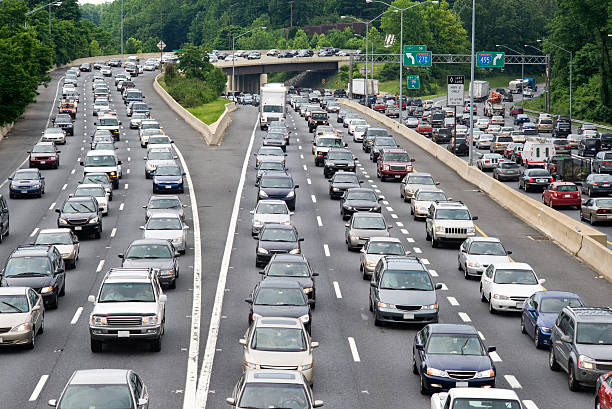car: (90, 269, 161, 353), (549, 305, 612, 388), (414, 326, 492, 392), (373, 257, 438, 328), (241, 315, 308, 379), (5, 247, 60, 303), (477, 260, 536, 311), (232, 371, 308, 409), (522, 288, 571, 344), (253, 281, 308, 330), (1, 282, 40, 349), (124, 241, 173, 284), (460, 235, 510, 275), (427, 202, 469, 247), (143, 213, 185, 257), (57, 199, 98, 241), (363, 237, 405, 275), (33, 228, 76, 265), (257, 225, 294, 264), (77, 180, 111, 221), (83, 154, 120, 190), (347, 212, 386, 246), (146, 196, 184, 230), (251, 201, 291, 233), (258, 173, 295, 207), (578, 193, 612, 225), (545, 180, 580, 210), (344, 187, 376, 218), (411, 186, 440, 218), (151, 165, 182, 194), (400, 171, 431, 200), (328, 174, 359, 200), (379, 151, 410, 177), (322, 152, 352, 178), (8, 169, 40, 193), (143, 152, 170, 180), (522, 167, 550, 194), (255, 150, 287, 172), (30, 143, 57, 168), (97, 118, 120, 143), (316, 137, 339, 162), (446, 134, 468, 156), (585, 172, 608, 193), (150, 132, 170, 156), (52, 112, 71, 135), (124, 88, 143, 111), (497, 160, 520, 178), (554, 120, 575, 139), (263, 132, 285, 150), (42, 129, 66, 145), (479, 152, 500, 170), (308, 112, 330, 129), (92, 132, 109, 153), (593, 154, 612, 172), (129, 109, 146, 129), (495, 134, 512, 153), (364, 132, 384, 148), (61, 100, 74, 119), (141, 129, 157, 144), (92, 100, 108, 115), (581, 138, 598, 152), (92, 87, 107, 102), (403, 115, 420, 128), (476, 117, 494, 129), (346, 120, 361, 134), (552, 137, 568, 150), (537, 118, 553, 131), (124, 65, 140, 77), (389, 105, 401, 119), (465, 103, 479, 115), (431, 115, 445, 127), (478, 134, 490, 146), (493, 116, 505, 128), (421, 96, 432, 109), (404, 117, 416, 127), (523, 122, 535, 131), (62, 86, 74, 94), (81, 63, 91, 72)
left turn: (490, 52, 504, 66)
right turn: (403, 51, 417, 68)
truck: (261, 86, 286, 129), (346, 80, 377, 101), (469, 82, 489, 100)
